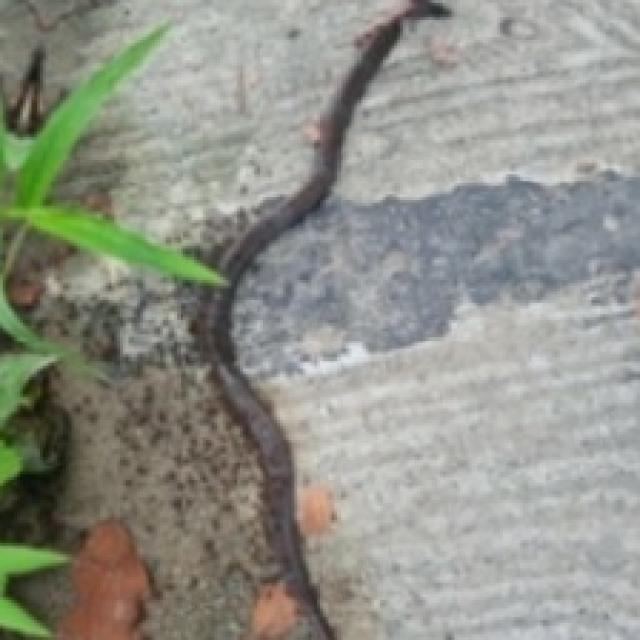northern short-headed snake: (203, 0, 449, 637)
